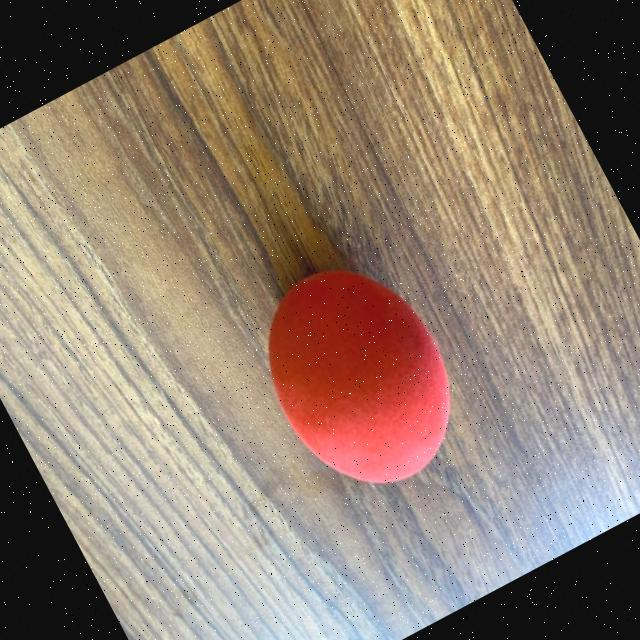ping-pong-ball: (228, 238, 486, 520)
